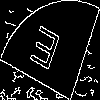E: (25, 24, 62, 80)
